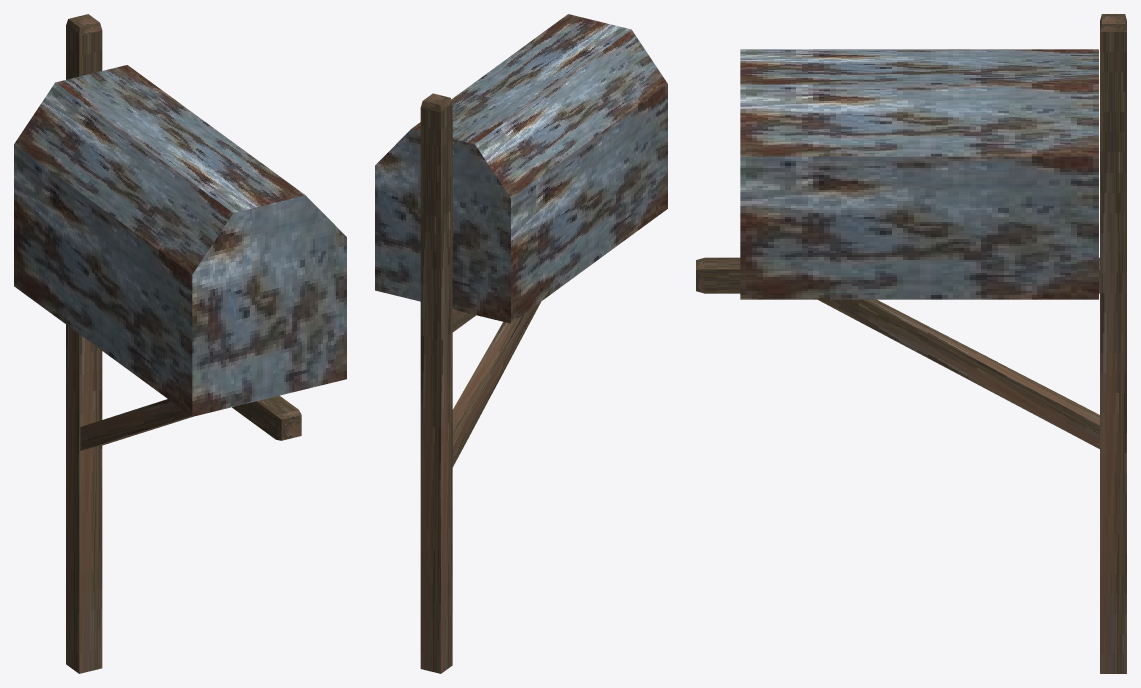
Rendered from mailbox.glb.
The picture shows the model from 3 angles, left to right: view 1: azimuth 30°, elevation 25°; view 2: azimuth 150°, elevation 25°; view 3: azimuth 270°, elevation 25°; orthographic projection. The views are drawn at different scales.
Parts seen in each view (by area): view 1: Cube.001, Cube, Cube.003, Cube.002; view 2: Cube.001, Cube, Cube.003; view 3: Cube.001, Cube, Cube.003, Cube.002.
Part boxes in pixels (x1=…): Cube.001: x1=14, y1=65, x2=346, y2=416; Cube: x1=66, y1=14, x2=102, y2=673; Cube.003: x1=80, y1=399, x2=192, y2=450; Cube.002: x1=232, y1=395, x2=301, y2=440; Cube.001: x1=375, y1=14, x2=667, y2=323; Cube: x1=420, y1=93, x2=452, y2=673; Cube.003: x1=452, y1=302, x2=540, y2=467; Cube.001: x1=740, y1=49, x2=1098, y2=299; Cube: x1=1100, y1=14, x2=1126, y2=673; Cube.003: x1=818, y1=299, x2=1099, y2=448; Cube.002: x1=696, y1=257, x2=1100, y2=293.
Bounding box in the file's own units: 1 × 4 × 2.4.
Materials: 2 (2 with a texture image).
